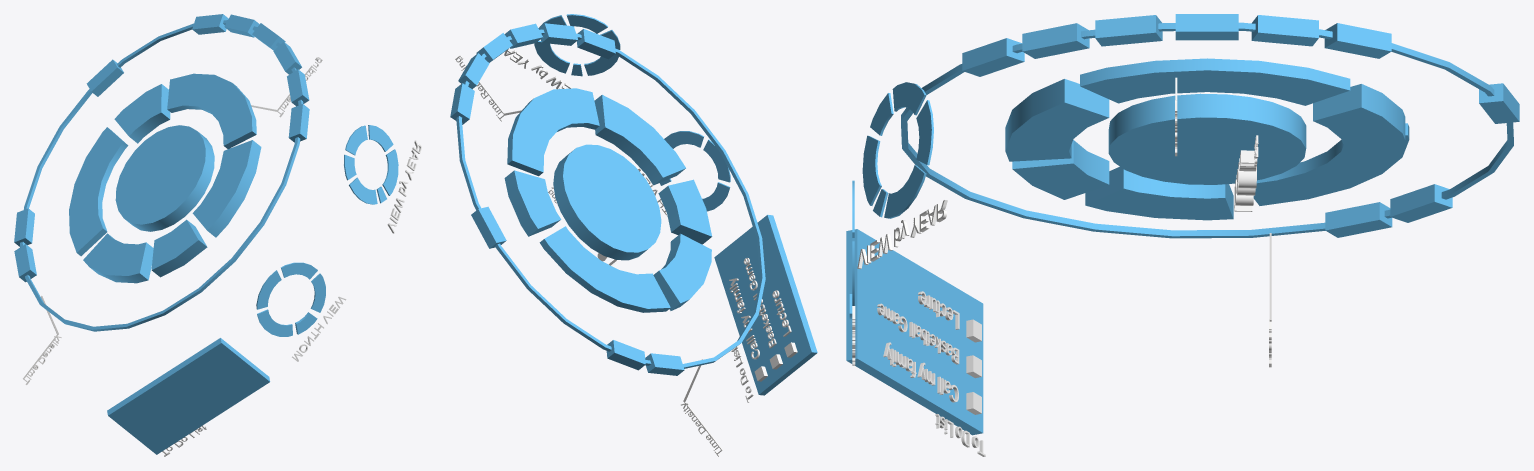
The picture shows the model from 3 angles, left to right: view 1: azimuth 30°, elevation 25°; view 2: azimuth 150°, elevation 25°; view 3: azimuth 270°, elevation 25°; orthographic projection. The views are drawn at different scales.
Visible parts, largest first — view 1: Group1; view 2: Group1; view 3: Group1.
Boxes of the visible parts, left/top/right/bottom form: Group1: left=14, top=14, right=421, bottom=456; Group1: left=450, top=14, right=817, bottom=456; Group1: left=846, top=14, right=1519, bottom=456.
Size of the model in its own units: 3103 by 3288 by 3421.
